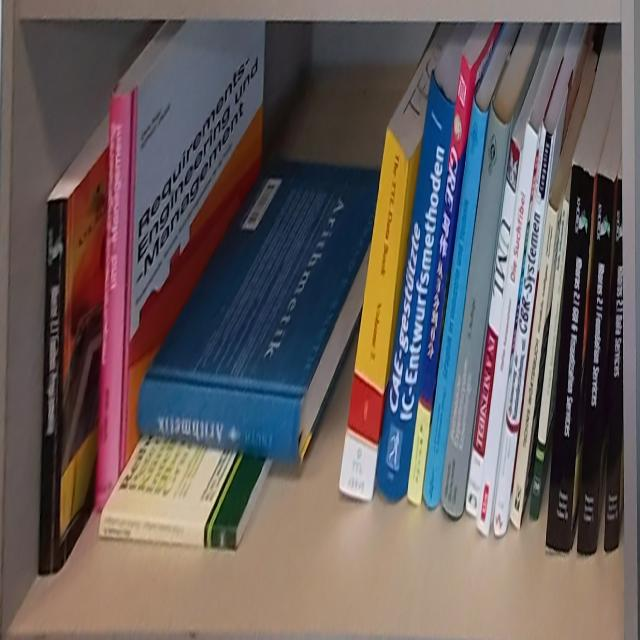Book Spine: (377, 73, 455, 503), (407, 51, 473, 504), (442, 98, 510, 517), (423, 93, 487, 508), (492, 119, 554, 540), (339, 124, 408, 501), (476, 122, 538, 536), (466, 134, 521, 519), (545, 163, 595, 554), (510, 203, 559, 531), (96, 91, 131, 510), (577, 171, 614, 557), (136, 378, 303, 463), (529, 198, 570, 522), (38, 197, 67, 575), (603, 178, 623, 548), (98, 511, 236, 548)
